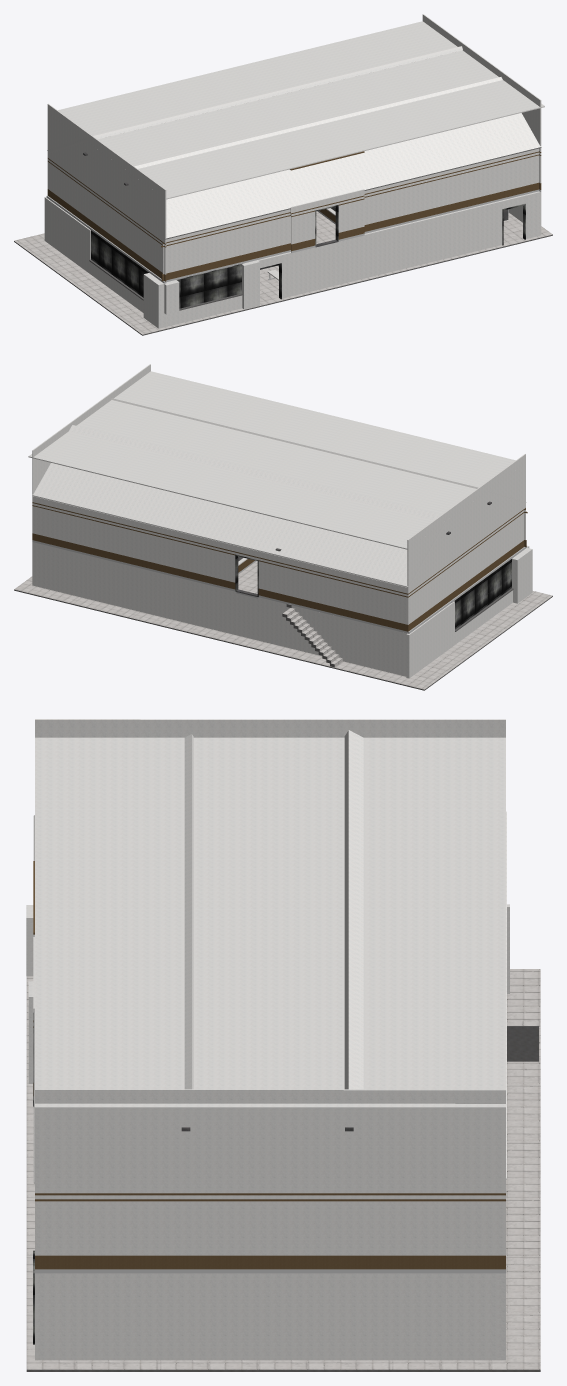
The model's file is scp_room_cafeteria.dae.
The picture shows the model from 3 angles, top to bottom: view 1: azimuth 30°, elevation 25°; view 2: azimuth 150°, elevation 25°; view 3: azimuth 270°, elevation 25°; orthographic projection. The views are drawn at different scales.
Visible parts, largest first — view 1: SCP Cafeteria.002, SCP Cafeteria.006, SCP Cafeteria.004, SCP Cafeteria.007, SCP Cafeteria.003, SCP Cafeteria.005; view 2: SCP Cafeteria.002, SCP Cafeteria.006, SCP Cafeteria.004, SCP Cafeteria.007, SCP Cafeteria.005, SCP Cafeteria.003; view 3: SCP Cafeteria.002, SCP Cafeteria.006, SCP Cafeteria.004, SCP Cafeteria.005, SCP Cafeteria.003.
Part boxes in pixels (bbox=[...]): SCP Cafeteria.002: bbox=[44, 14, 544, 328]; SCP Cafeteria.006: bbox=[14, 211, 552, 334]; SCP Cafeteria.004: bbox=[47, 151, 541, 281]; SCP Cafeteria.007: bbox=[91, 203, 525, 308]; SCP Cafeteria.003: bbox=[46, 189, 541, 283]; SCP Cafeteria.005: bbox=[14, 206, 552, 335]; SCP Cafeteria.002: bbox=[28, 364, 532, 678]; SCP Cafeteria.006: bbox=[14, 561, 552, 689]; SCP Cafeteria.004: bbox=[32, 502, 527, 631]; SCP Cafeteria.007: bbox=[235, 554, 511, 629]; SCP Cafeteria.005: bbox=[14, 548, 552, 690]; SCP Cafeteria.003: bbox=[32, 540, 526, 633]; SCP Cafeteria.002: bbox=[26, 719, 509, 1360]; SCP Cafeteria.006: bbox=[26, 969, 540, 1369]; SCP Cafeteria.004: bbox=[33, 861, 505, 1269]; SCP Cafeteria.005: bbox=[26, 1026, 540, 1371]; SCP Cafeteria.003: bbox=[33, 1096, 505, 1273].
Bounding box in the file's own units: 88.2 × 47.83 × 29.1.
